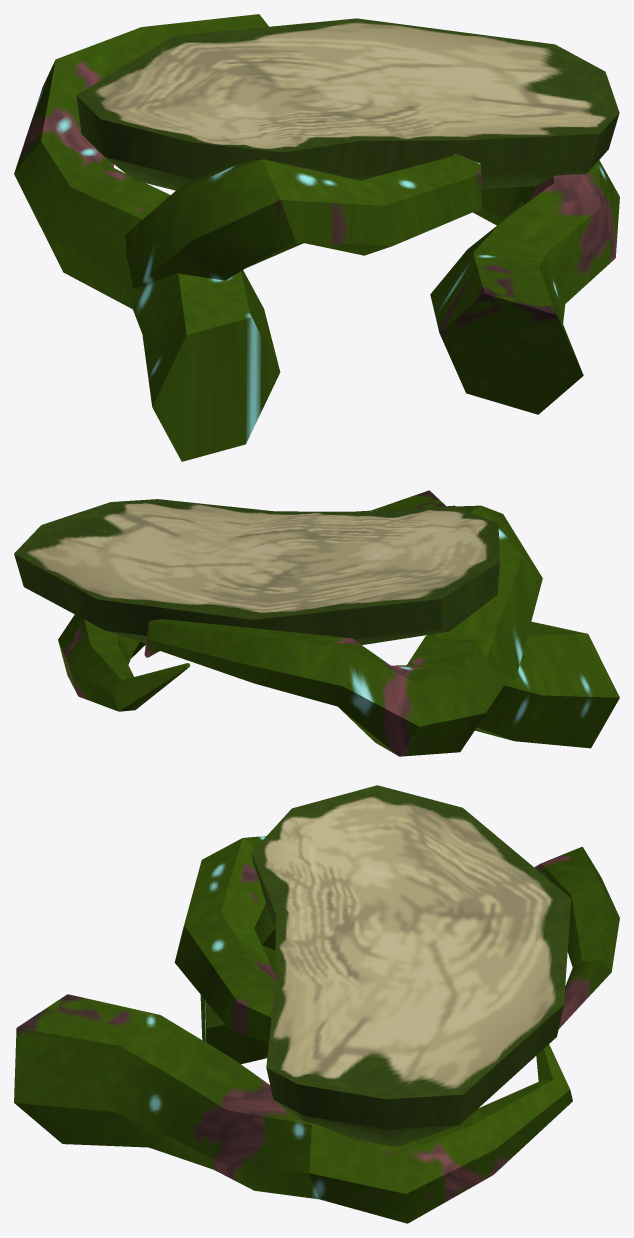
Rendered from platform03.fbx.
The picture shows the model from 3 angles, top to bottom: view 1: azimuth 30°, elevation 25°; view 2: azimuth 150°, elevation 25°; view 3: azimuth 270°, elevation 25°; orthographic projection. The views are drawn at different scales.
Visible parts, largest first — view 1: Platform03; view 2: Platform03; view 3: Platform03.
Part boxes in pixels (x1=…): Platform03: x1=14, y1=14, x2=619, y2=461; Platform03: x1=14, y1=490, x2=619, y2=756; Platform03: x1=14, y1=785, x2=619, y2=1223.
Bounding box in the file's own units: 2436 × 1155 × 2427.
